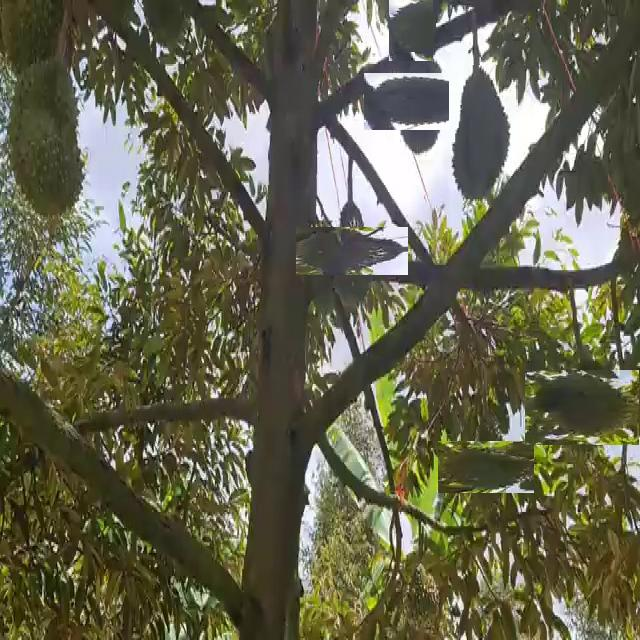durian: (8, 56, 94, 219), (450, 65, 518, 205), (534, 359, 630, 455), (377, 59, 461, 143), (312, 211, 392, 292), (449, 430, 523, 505), (382, 0, 439, 55), (138, 4, 196, 55)
